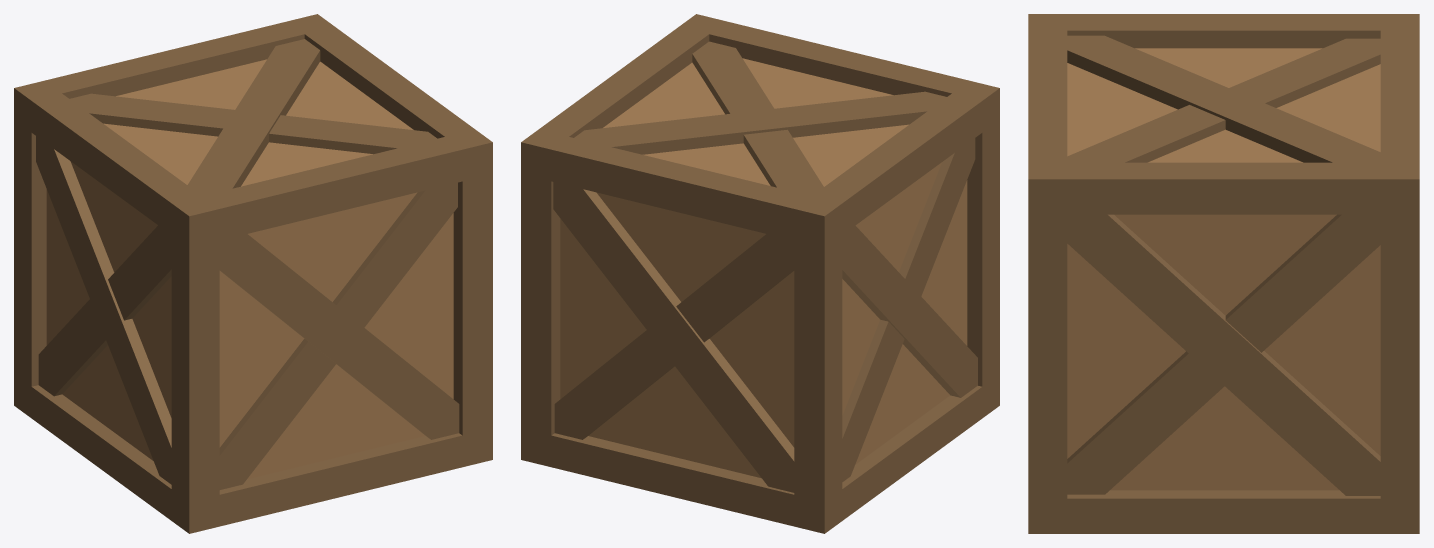
File: crate.glb
3 views of the same model, side by side, from view 1: azimuth 30°, elevation 25°; view 2: azimuth 150°, elevation 25°; view 3: azimuth 270°, elevation 25° (orthographic). The views are drawn at different scales.
Visible parts, largest first — view 1: Crate; view 2: Crate; view 3: Crate.
Boxes of the visible parts, x1,y1,x2,y2 form: Crate: (14, 14, 492, 533); Crate: (521, 14, 999, 533); Crate: (1028, 14, 1419, 533).
Size of what is drawn, in the model's own units: 1.54 by 1.54 by 1.54.
